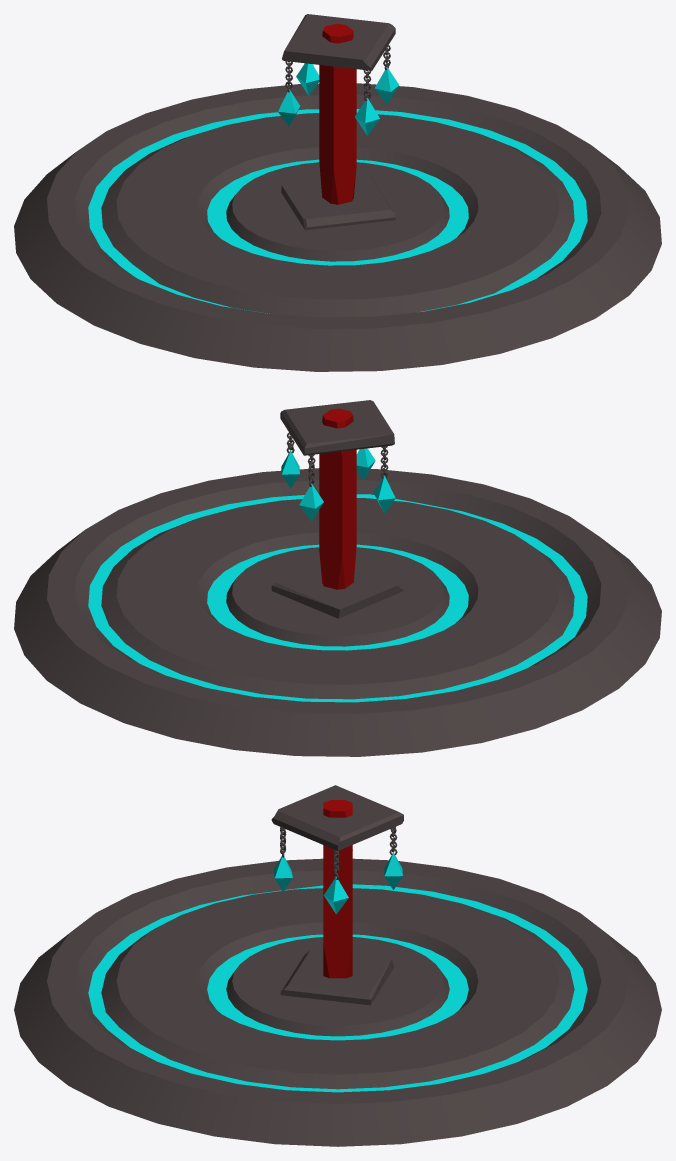
The model's file is CapturePoint.fbx.
3 views of the same model, one above another, from view 1: azimuth 30°, elevation 25°; view 2: azimuth 150°, elevation 25°; view 3: azimuth 270°, elevation 25° (orthographic).
Visible parts, largest first — view 1: CapturePoint; view 2: CapturePoint; view 3: CapturePoint.
Boxes of the visible parts, bbox=[...] form: CapturePoint: bbox=[14, 14, 661, 371]; CapturePoint: bbox=[14, 400, 661, 756]; CapturePoint: bbox=[14, 785, 661, 1146].
Bounding box in the file's own units: 1067 × 371 × 1067.
